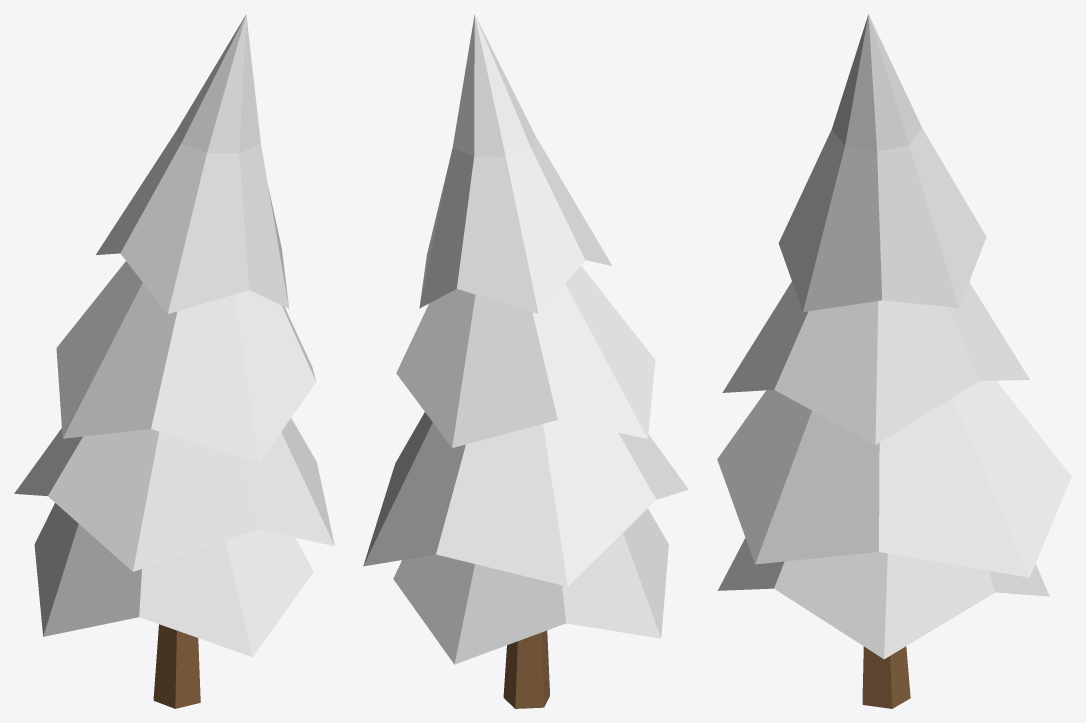
The model's file is Pine_Tree_OneSided_m_Snow_04_LOD.fbx.
3 renders of one model, left to right at view 1: azimuth 30°, elevation 25°; view 2: azimuth 150°, elevation 25°; view 3: azimuth 270°, elevation 25°, orthographic. The views are drawn at different scales.
Visible parts, largest first — view 1: Pine_Tree_OneSided_m_Snow_04_LOD0; view 2: Pine_Tree_OneSided_m_Snow_04_LOD0; view 3: Pine_Tree_OneSided_m_Snow_04_LOD0.
Part boxes in pixels (x1,y1,x2,y2): Pine_Tree_OneSided_m_Snow_04_LOD0: (14, 14, 334, 708); Pine_Tree_OneSided_m_Snow_04_LOD0: (363, 14, 688, 708); Pine_Tree_OneSided_m_Snow_04_LOD0: (717, 14, 1071, 708).
Size of what is drawn, in the model's own units: 409 by 970 by 435.
